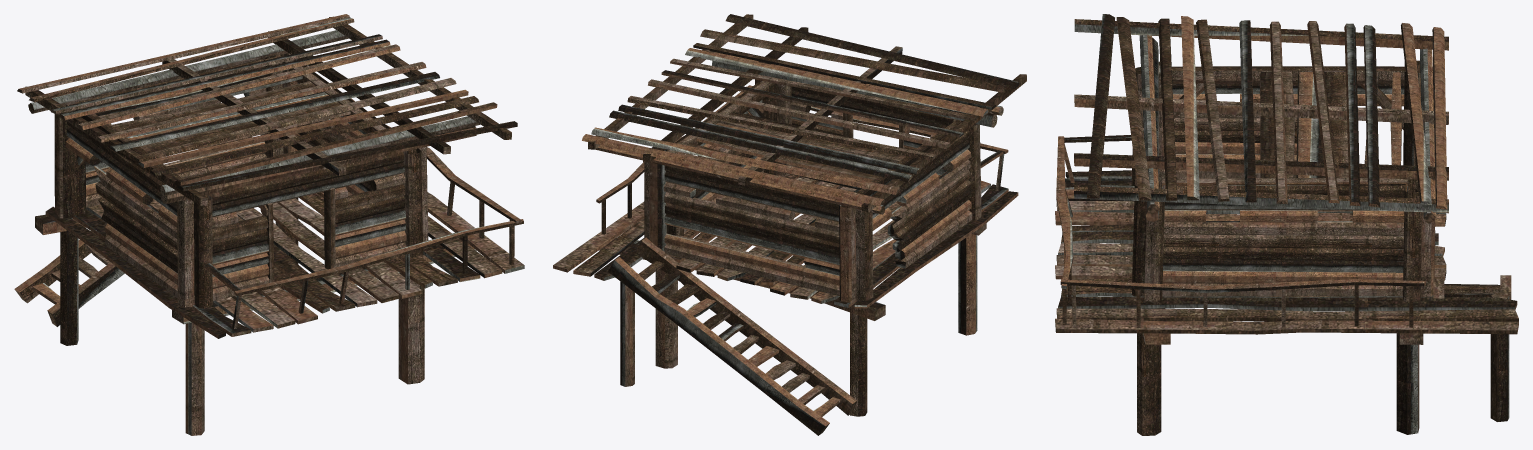
Rendered from home.fbx.
3 renders of one model, left to right at view 1: azimuth 30°, elevation 25°; view 2: azimuth 150°, elevation 25°; view 3: azimuth 270°, elevation 25°, orthographic. The views are drawn at different scales.
Visible parts, largest first — view 1: Mesh_00000.01; view 2: Mesh_00000.01; view 3: Mesh_00000.01.
Part boxes in pixels (bbox=[...]): Mesh_00000.01: bbox=[14, 14, 524, 435]; Mesh_00000.01: bbox=[553, 14, 1026, 435]; Mesh_00000.01: bbox=[1055, 14, 1518, 435].
Bounding box in the file's own units: 25.51 × 19.25 × 28.23.
